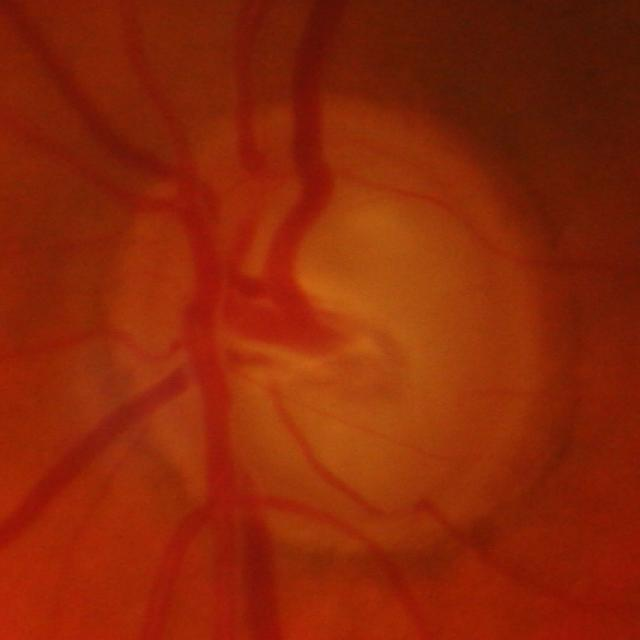OC: (211, 274, 375, 368)
OD: (115, 99, 548, 561)
